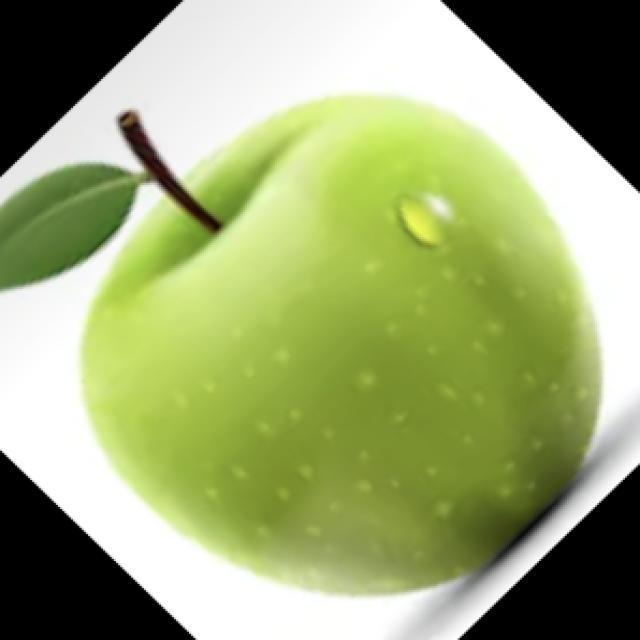Fresh Apple: (71, 95, 596, 597)
